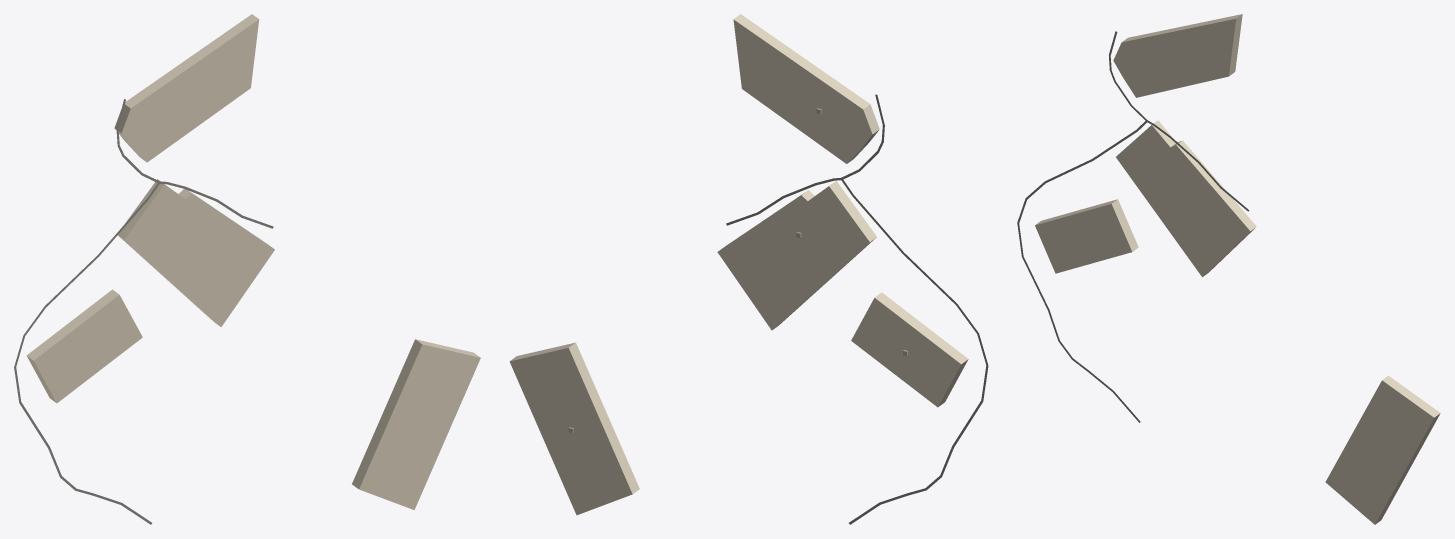
Rendered from historic-palestine-08_20_3498_3145.glb.
The picture shows the model from 3 angles, left to right: view 1: azimuth 30°, elevation 25°; view 2: azimuth 150°, elevation 25°; view 3: azimuth 330°, elevation 25°; orthographic projection. The views are drawn at different scales.
Visible parts, largest first — view 1: Building_.001, Building_.002, Building_, Building_.003, Road .001, Road; view 2: Building_.001, Building_.002, Building_, Building_.003, Road .001, Road; view 3: Building_.001, Building_.002, Building_, Building_.003, Road .001, Road.
Part boxes in pixels (x1,y1,x2,y2): Building_.001: (118,179,274,326); Building_.002: (352,339,480,510); Building_: (114,14,259,162); Building_.003: (26,289,142,403); Road .001: (14,182,159,524); Road: (116,99,273,228); Building_.001: (717,181,876,330); Building_.002: (509,342,639,515); Building_: (733,14,879,163); Building_.003: (851,292,968,407); Road .001: (841,178,988,524); Road: (726,94,884,225); Building_.001: (1116,120,1256,277); Building_.002: (1325,375,1440,524); Building_: (1113,14,1242,97); Building_.003: (1035,199,1138,273); Road .001: (1017,121,1147,422); Road: (1109,31,1249,211).
Size of the model in its own units: 280 by 303 by 8.7.
